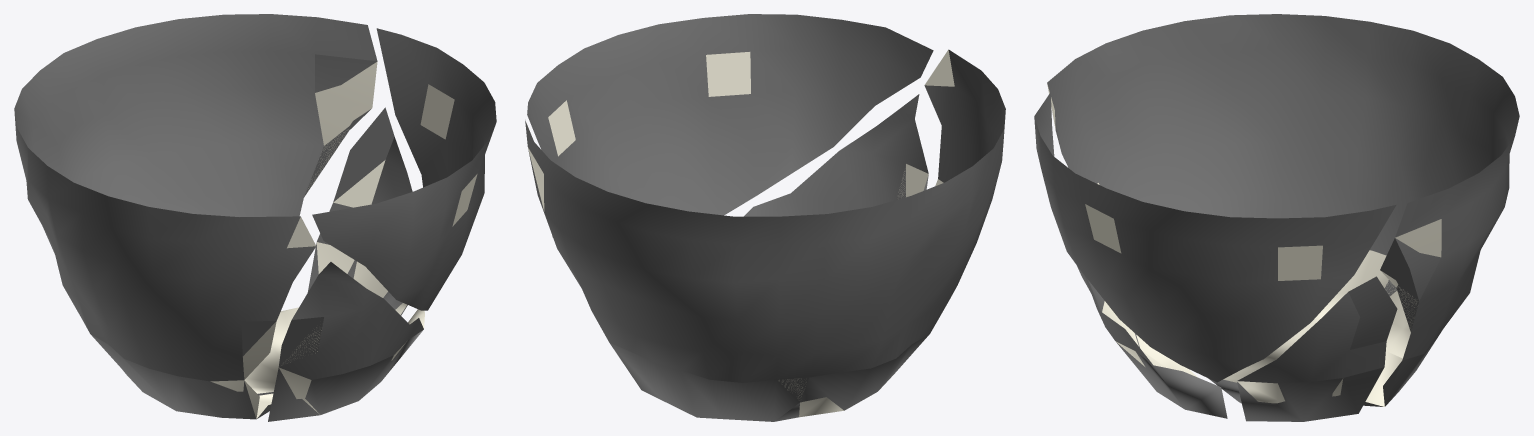
File: CeramicsShattered.fbx_Bowl_Fractured.fbx
3 renders of one model, left to right at view 1: azimuth 30°, elevation 25°; view 2: azimuth 150°, elevation 25°; view 3: azimuth 270°, elevation 25°, orthographic.
Visible parts, largest first — view 1: Bowl_cell.004, Bowl_cell.003, Bowl_cell.002, Bowl_cell; view 2: Bowl_cell.004, Bowl_cell.003, Bowl_cell.002; view 3: Bowl_cell.004, Bowl_cell.003, Bowl_cell, Bowl_cell.002.
Part boxes in pixels (bbox=[...]): Bowl_cell.004: bbox=[14, 14, 377, 419]; Bowl_cell.003: bbox=[312, 28, 496, 310]; Bowl_cell.002: bbox=[268, 262, 424, 421]; Bowl_cell: bbox=[307, 107, 412, 315]; Bowl_cell.004: bbox=[525, 49, 1005, 421]; Bowl_cell.003: bbox=[527, 14, 933, 215]; Bowl_cell.002: bbox=[744, 94, 928, 216]; Bowl_cell.004: bbox=[1047, 14, 1519, 406]; Bowl_cell.003: bbox=[1034, 92, 1396, 382]; Bowl_cell: bbox=[1237, 276, 1397, 421]; Bowl_cell.002: bbox=[1077, 266, 1227, 418].
Size of the model in its own units: 8.82 by 5.13 by 8.79.
